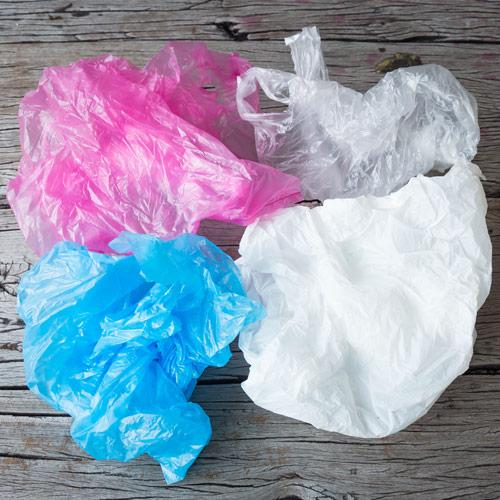LDPE: (0, 207, 267, 500), (226, 2, 499, 203)
